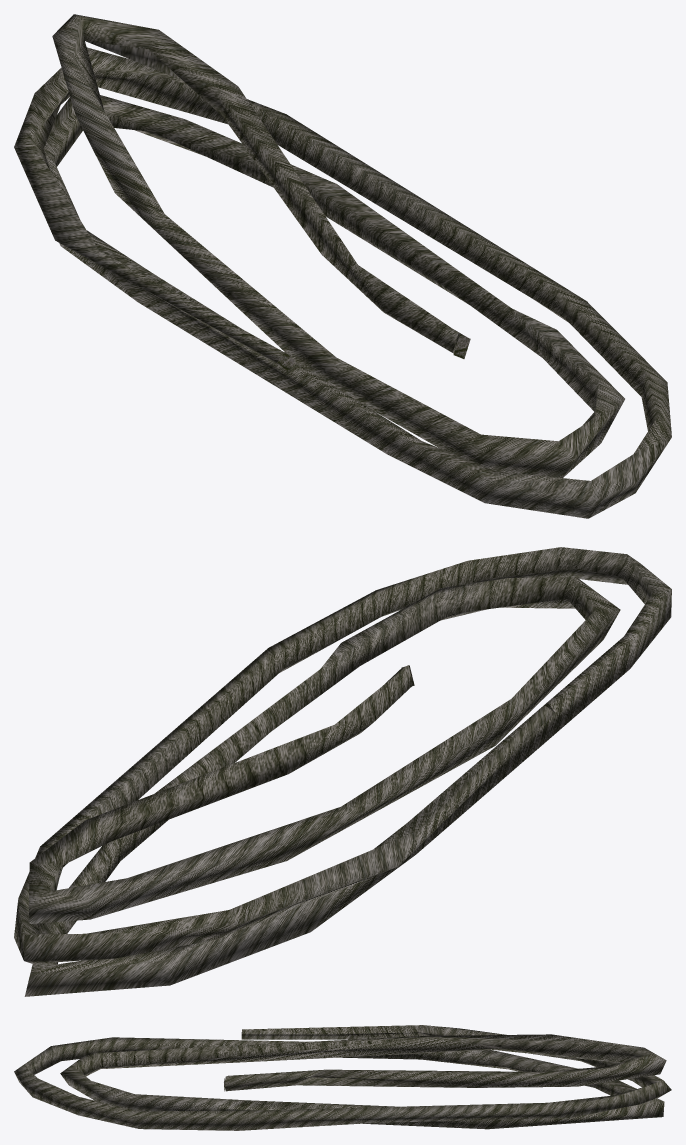
Rendered from TI_Rope_04_LOD_01.fbx.
The picture shows the model from 3 angles, top to bottom: view 1: azimuth 30°, elevation 25°; view 2: azimuth 150°, elevation 25°; view 3: azimuth 270°, elevation 25°; orthographic projection. The views are drawn at different scales.
Parts seen in each view (by area): view 1: TI_Rope_04_LOD_01; view 2: TI_Rope_04_LOD_01; view 3: TI_Rope_04_LOD_01.
Part boxes in pixels (x1,y1,x2,y2): TI_Rope_04_LOD_01: (14, 14, 671, 518); TI_Rope_04_LOD_01: (14, 547, 671, 996); TI_Rope_04_LOD_01: (14, 1025, 671, 1130).
Size of the model in its own units: 0.9458 by 0.2865 by 2.87.
